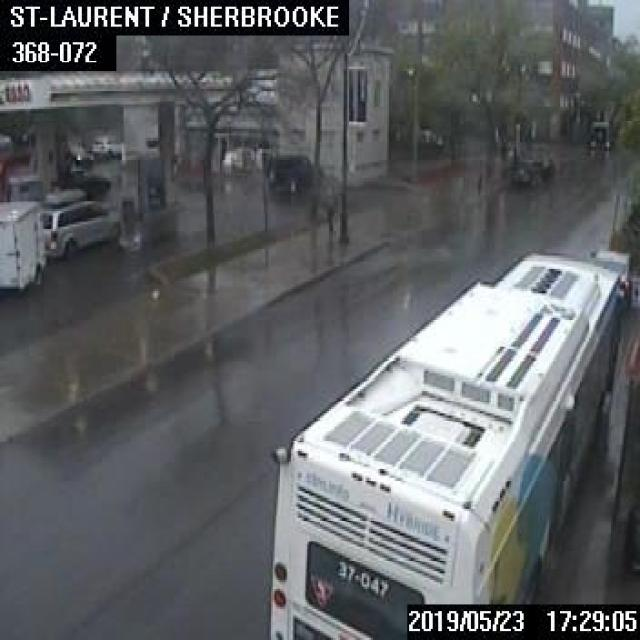bus: (262, 250, 614, 638)
vehicle: (0, 185, 122, 288), (587, 248, 630, 306), (266, 155, 311, 193), (505, 151, 551, 186), (90, 133, 122, 158), (584, 127, 610, 151)
